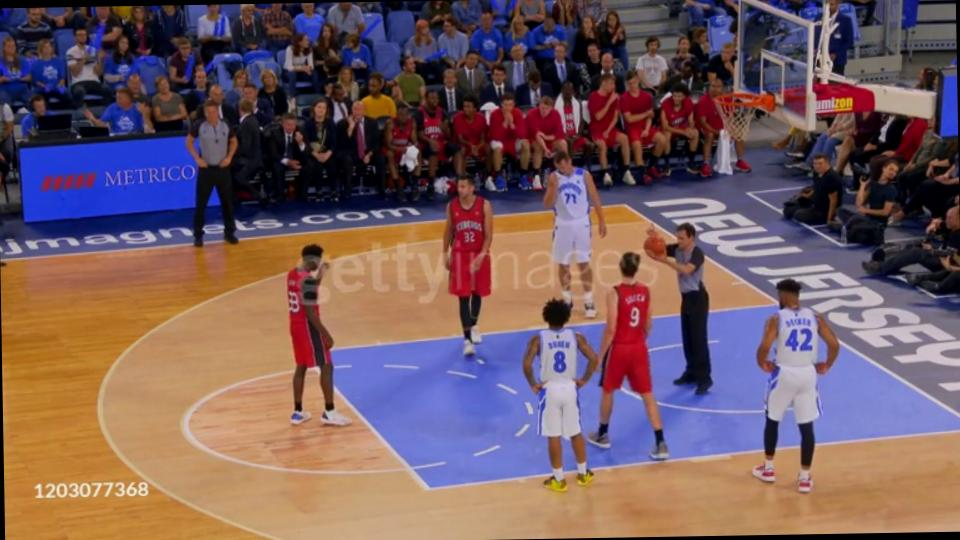hoop: (711, 90, 779, 114)
